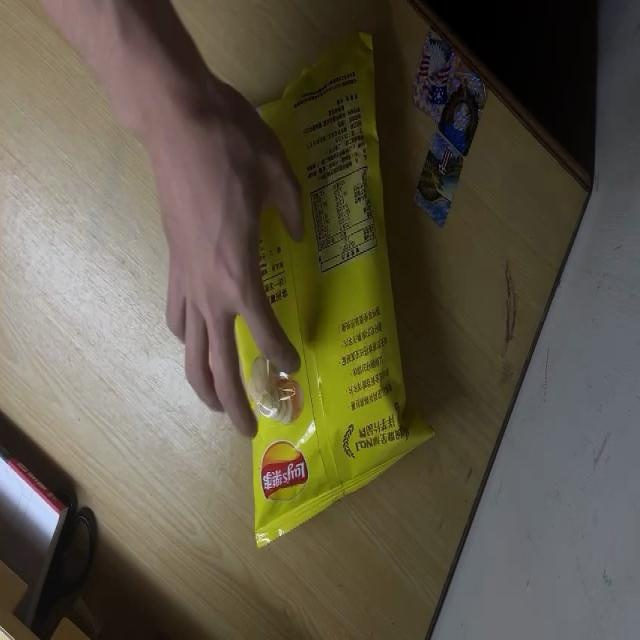Lay-s-original: (212, 34, 434, 548)
